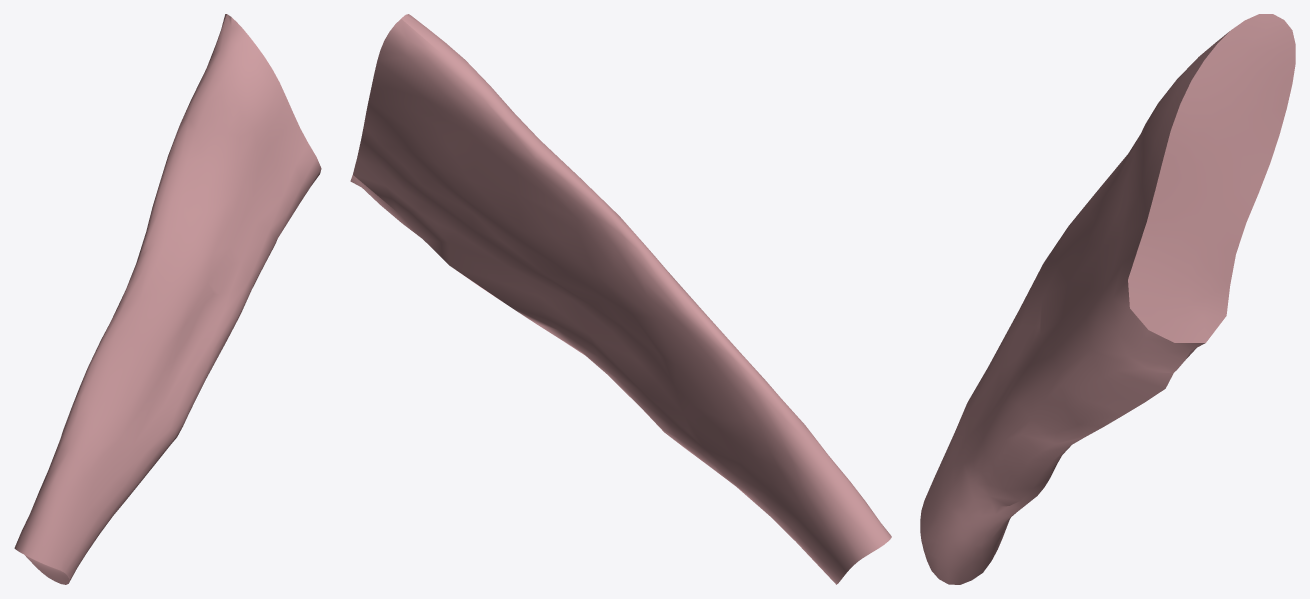
File: fma297820_mm1949.glb
3 views of the same model, side by side, from view 1: azimuth 30°, elevation 25°; view 2: azimuth 150°, elevation 25°; view 3: azimuth 270°, elevation 25° (orthographic). The views are drawn at different scales.
Parts seen in each view (by area): view 1: FMA297820_MM1949; view 2: FMA297820_MM1949; view 3: FMA297820_MM1949.
Boxes of the visible parts, x1,y1,x2,y2 form: FMA297820_MM1949: [14, 14, 321, 584]; FMA297820_MM1949: [350, 14, 891, 584]; FMA297820_MM1949: [920, 14, 1295, 584].
Bounding box in the file's own units: 0.0281 × 0.0335 × 0.0144.
